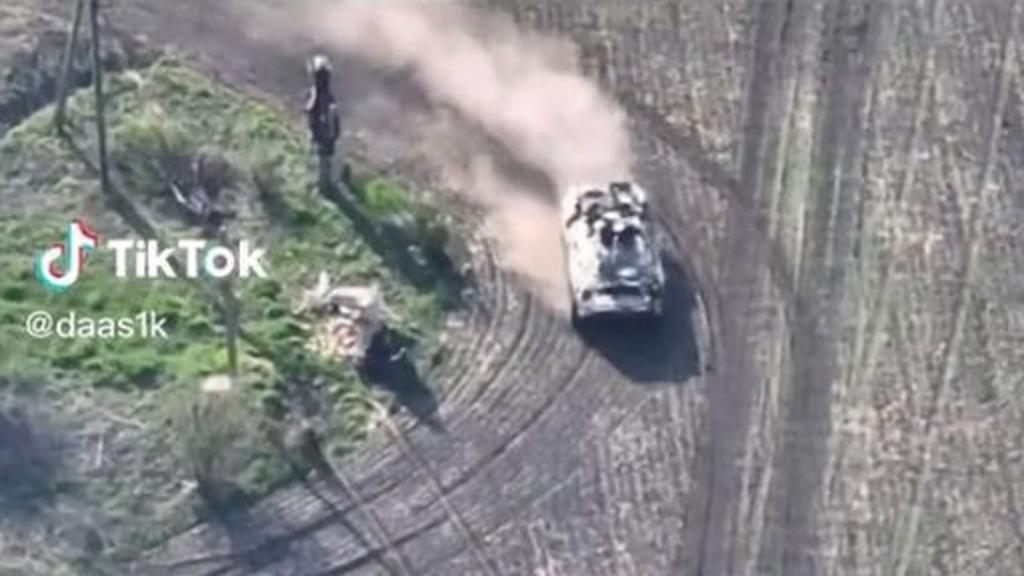APC-IFV: (544, 162, 670, 326)
